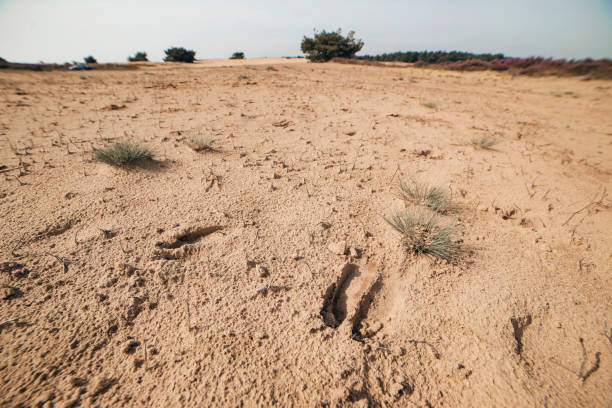animal_footprint: (317, 264, 399, 344)
